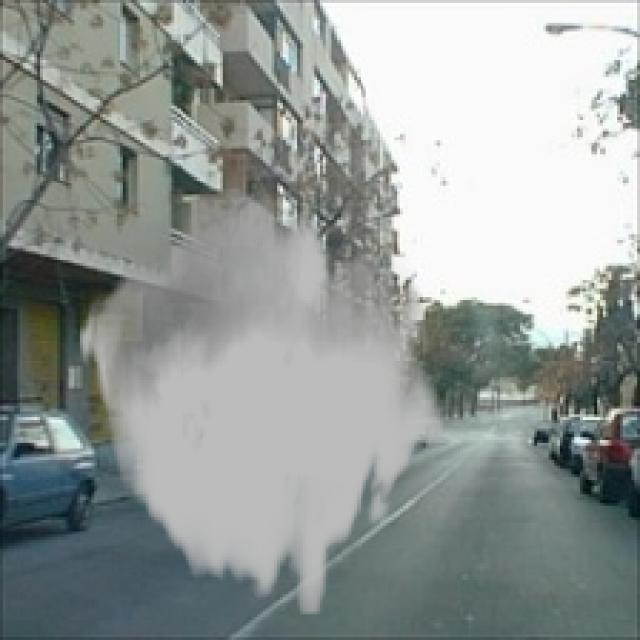Smoke: (77, 188, 446, 614)
